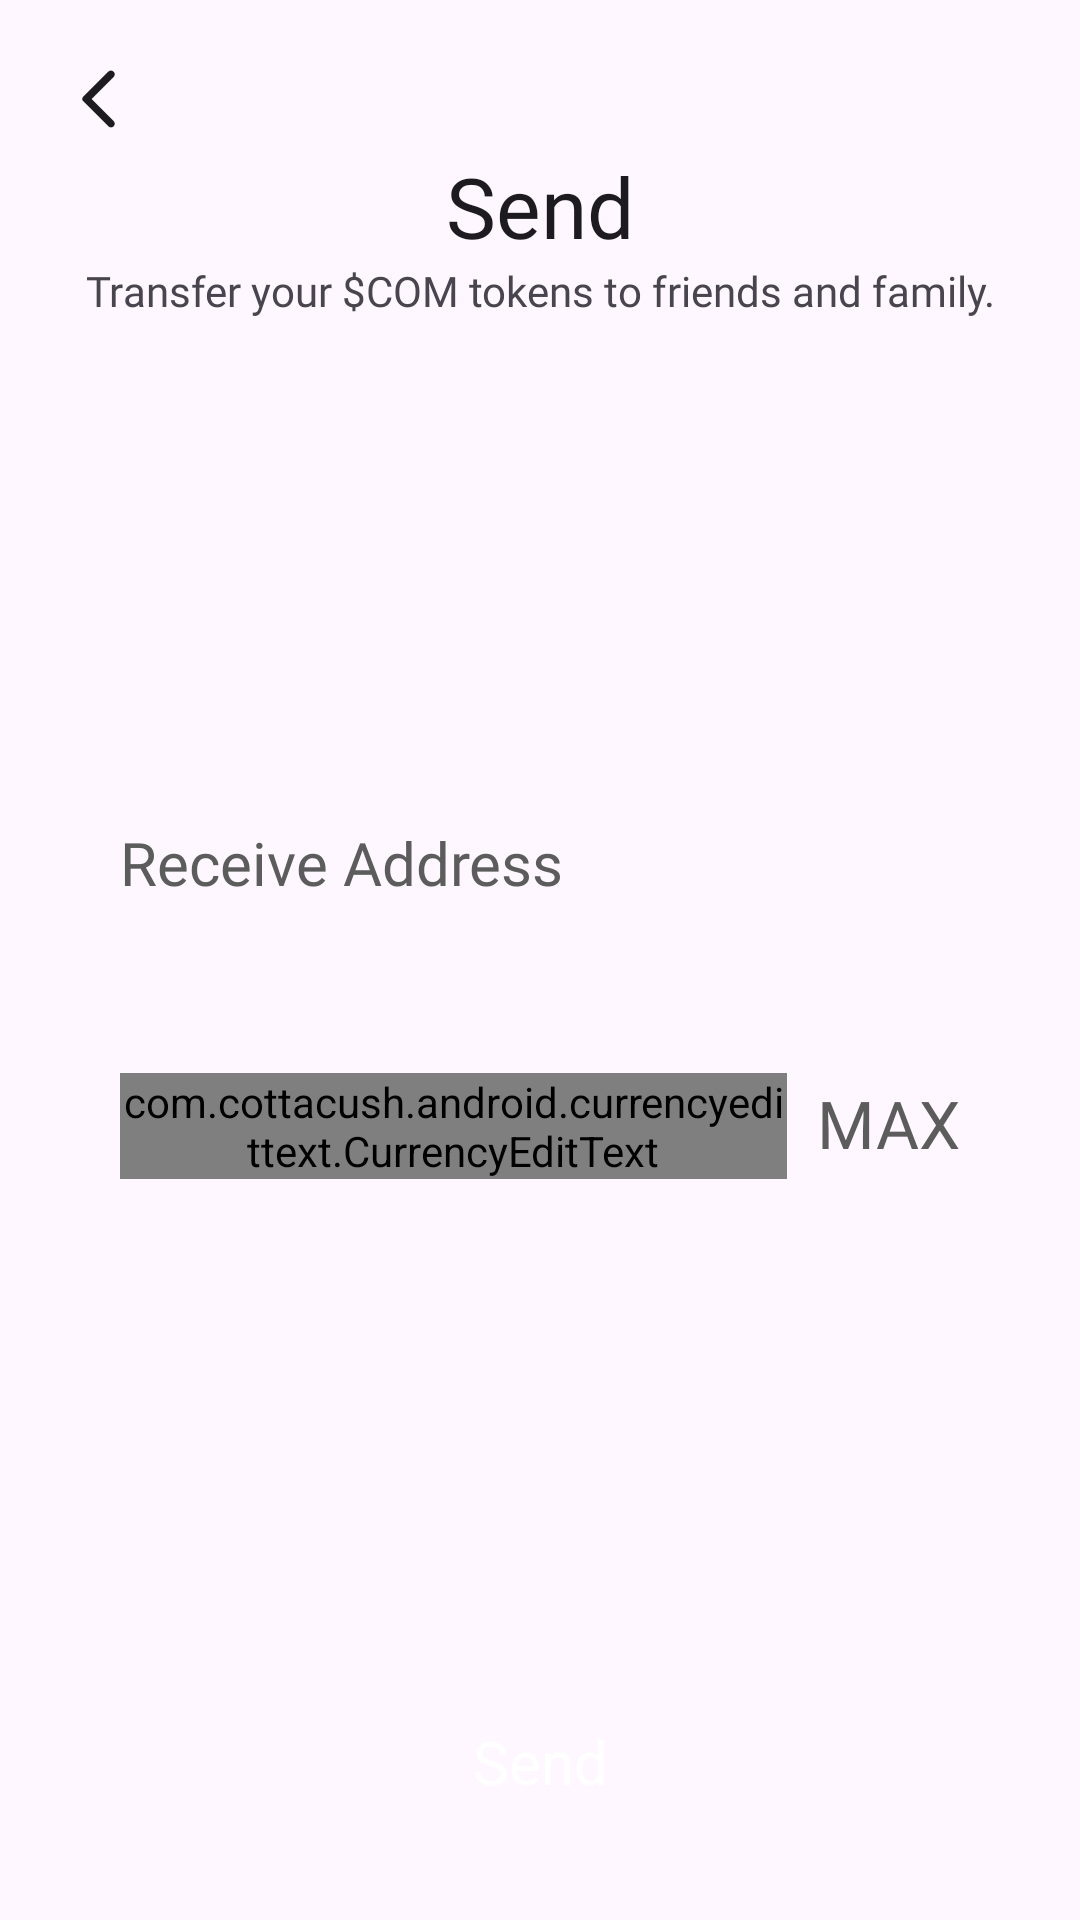

Icon bounding boxes for this 1080px×1920px phone screenshot, format (x1, y1, x2, y2):
arrow back: (82, 70, 115, 128)
